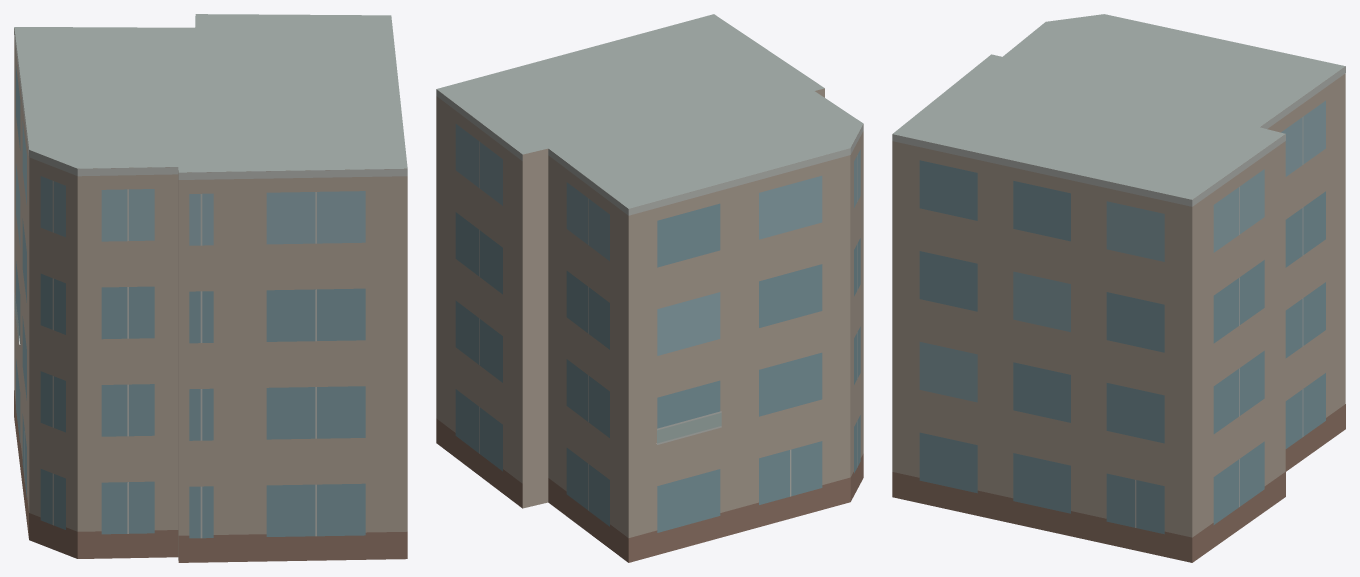
Rendered from survey-upis-32680504.glb.
The picture shows the model from 3 angles, left to right: view 1: azimuth 30°, elevation 25°; view 2: azimuth 150°, elevation 25°; view 3: azimuth 270°, elevation 25°; orthographic projection. The views are drawn at different scales.
Parts seen in each view (by area): view 1: survey-upis-32680504.tmp; view 2: survey-upis-32680504.tmp; view 3: survey-upis-32680504.tmp.
Part boxes in pixels (left/top/right/bottom): survey-upis-32680504.tmp: left=14, top=14, right=407, bottom=562; survey-upis-32680504.tmp: left=436, top=14, right=863, bottom=562; survey-upis-32680504.tmp: left=892, top=14, right=1345, bottom=562.
Size of the model in its own units: 13.95 by 12.7 by 14.39.
